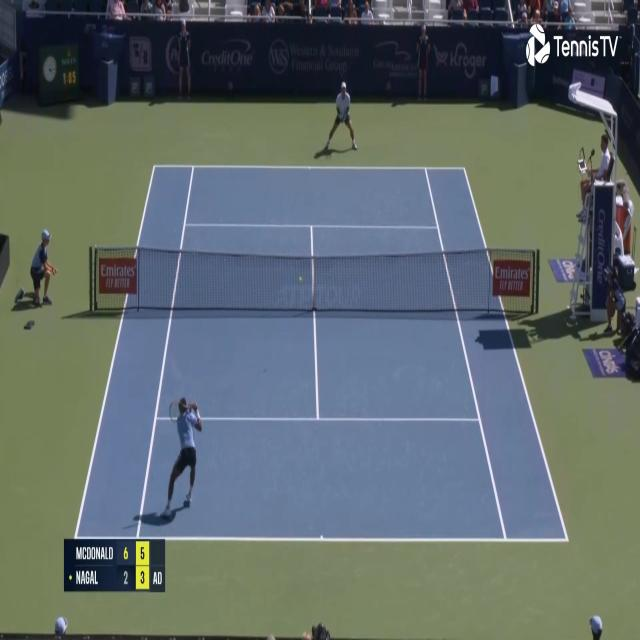tennis-player: (162, 390, 203, 521), (324, 78, 358, 156)
